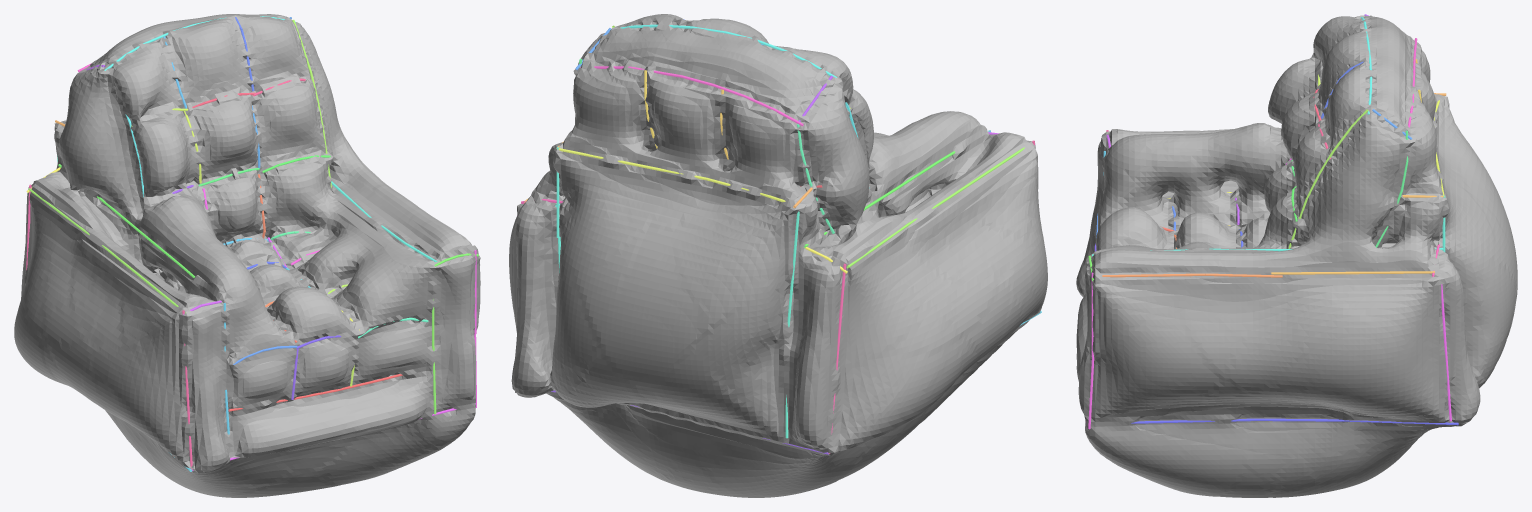
Rendered from author2_sofa.gltf.
The picture shows the model from 3 angles, left to right: view 1: azimuth 30°, elevation 25°; view 2: azimuth 150°, elevation 25°; view 3: azimuth 270°, elevation 25°; orthographic projection. The views are drawn at different scales.
Bounding box in the file's own units: 0.6928 × 0.7214 × 0.7245.
